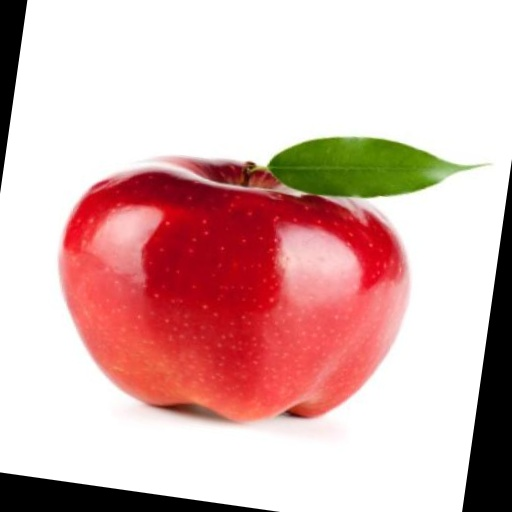fruit: (59, 158, 408, 420)
